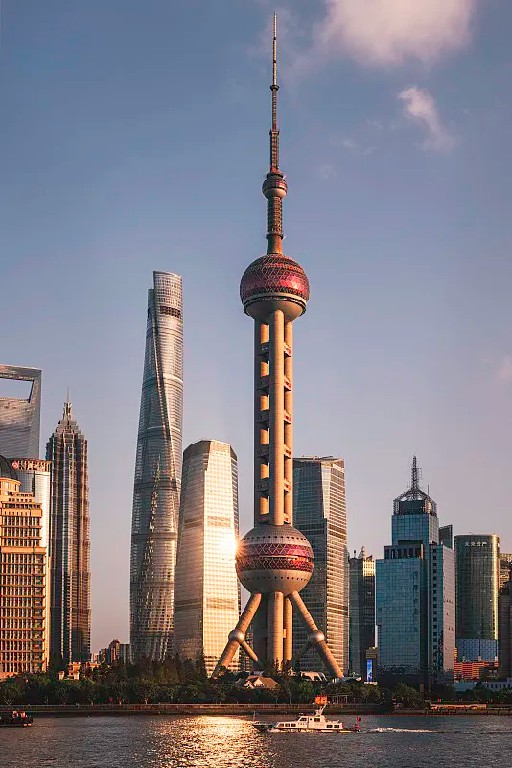Oriental: (211, 10, 344, 679)
